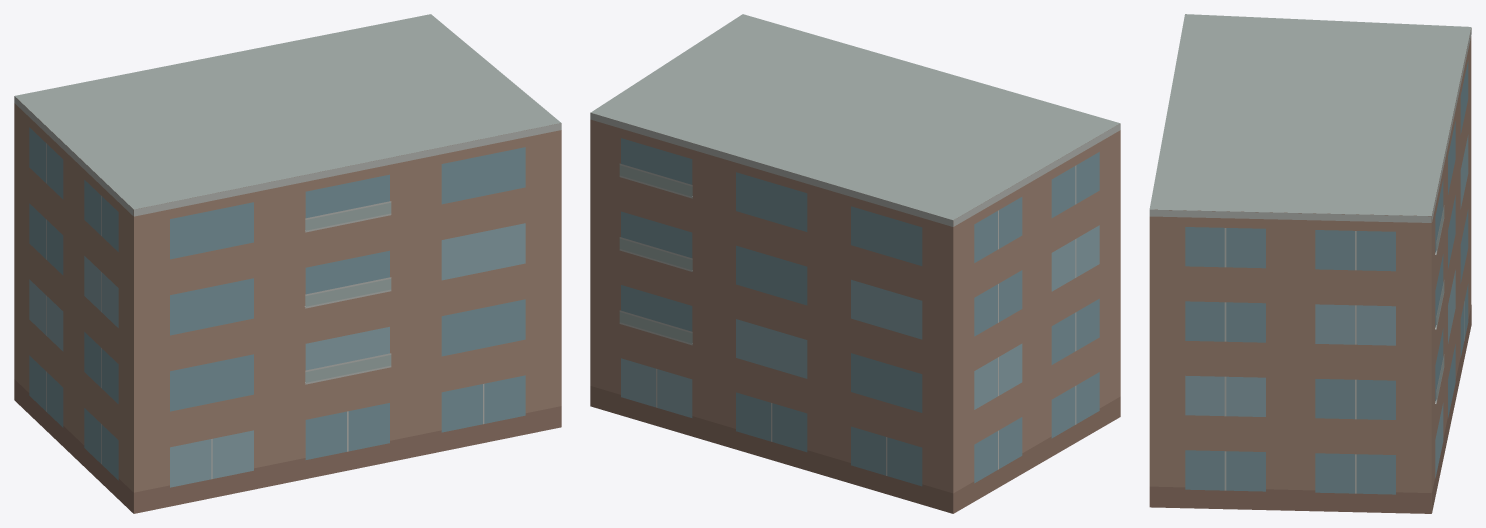
Rendered from survey-upis-32759785.glb.
3 views of the same model, side by side, from view 1: azimuth 30°, elevation 25°; view 2: azimuth 150°, elevation 25°; view 3: azimuth 270°, elevation 25° (orthographic). The views are drawn at different scales.
Parts seen in each view (by area): view 1: survey-upis-32759785.tmp; view 2: survey-upis-32759785.tmp; view 3: survey-upis-32759785.tmp.
Boxes of the visible parts, box(x1,y1,x2,y2) form: survey-upis-32759785.tmp: box(14, 14, 561, 513); survey-upis-32759785.tmp: box(590, 14, 1120, 513); survey-upis-32759785.tmp: box(1149, 14, 1471, 513).
Size of the model in its own units: 15.3 by 10.5 by 10.3.
